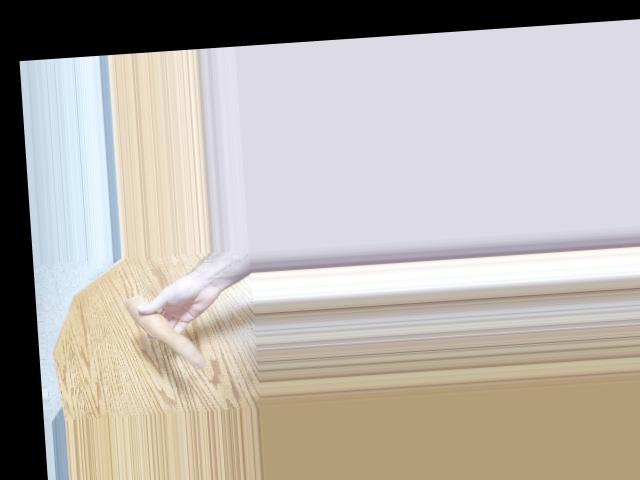sweet_potato: (127, 290, 204, 372)
